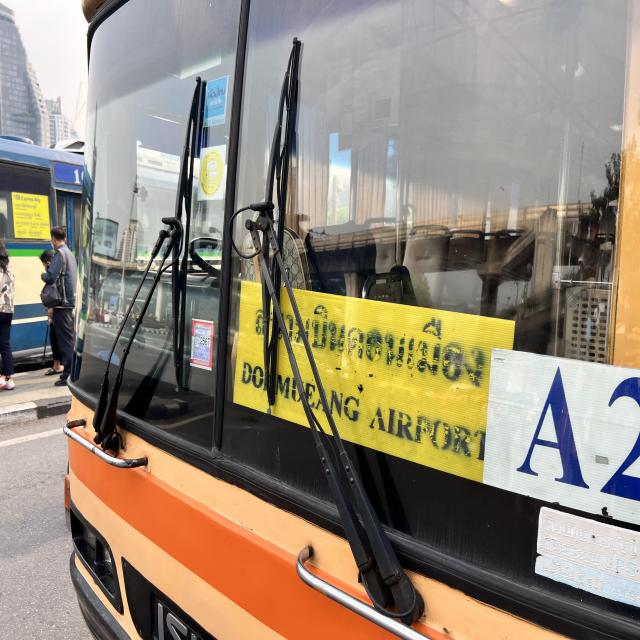BMTA-bus: (59, 0, 640, 640)
Destination-Sign-Normal-Expressway: (237, 280, 512, 500)
